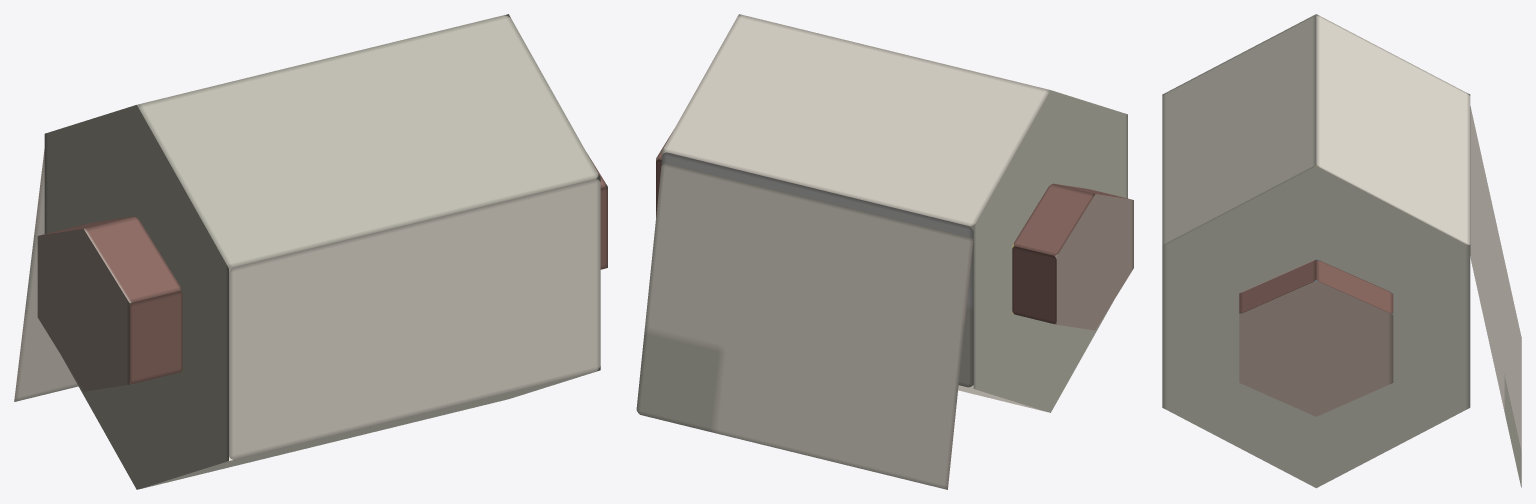
File: toiletpaper.fbx
3 renders of one model, left to right at view 1: azimuth 30°, elevation 25°; view 2: azimuth 150°, elevation 25°; view 3: azimuth 270°, elevation 25°, orthographic. The views are drawn at different scales.
Parts seen in each view (by area): view 1: plane; view 2: plane; view 3: plane.
Boxes of the visible parts, x1=… form: plane: x1=14, y1=14, x2=607, y2=489; plane: x1=636, y1=14, x2=1133, y2=489; plane: x1=1162, y1=14, x2=1521, y2=488.
Size of the model in its own units: 28.13 by 21.76 by 21.88.
